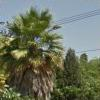Palm tree: (3, 7, 67, 95)
